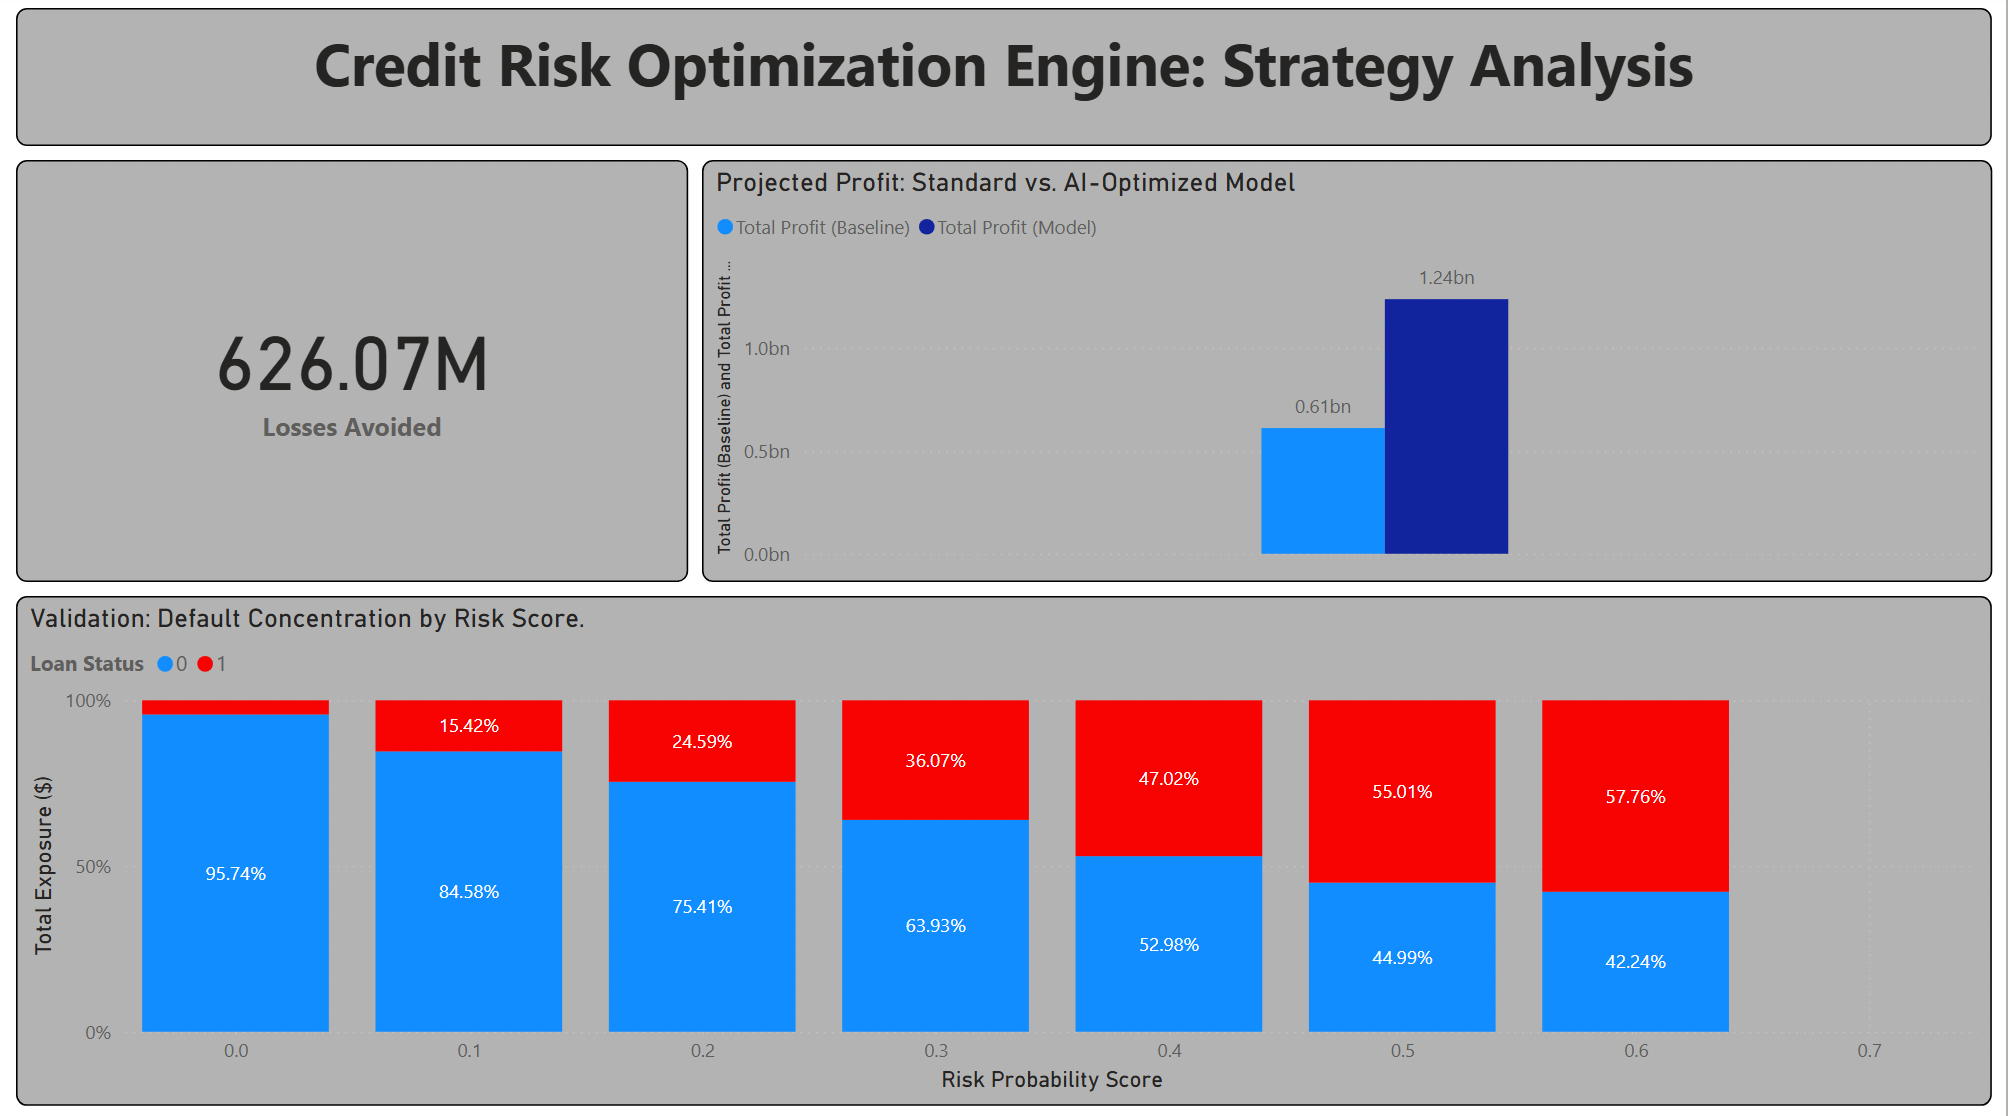

What the dashboard file says about the page in this screenshot:
{"tool":"powerbi","page":{"name":"Financial Risk Command Center","canvas":[1280,720],"ordinal":0},"visuals":[{"type":"card","fields":{"Values":["final_risk_strategy.Losses Avoided"]},"box":[11.5,107.1,428.4,269],"z":0},{"type":"clusteredColumnChart","title":"Projected Profit: Standard vs. AI-Optimized Model","fields":{"Y":["final_risk_strategy.Total Profit (Baseline)","final_risk_strategy.Total Profit (Model)"]},"box":[448.8,107.1,822.3,269],"z":1000},{"type":"hundredPercentStackedColumnChart","title":"Validation: Default Concentration by Risk Score.","fields":{"Category":["final_risk_strategy.Predicted_Prob (bins)"],"Y":["Sum(final_risk_strategy.Loan_Amount)"],"Series":["final_risk_strategy.Actual_Default"]},"box":[11.5,385,1259.6,325.1],"z":2000},{"type":"textbox","box":[11.5,10.2,1259.6,88],"z":3000}]}

Visuals, with their boxes in screenshot pixels (x1, y1, x2, y2), scaled from the page's 1280x720 canvas onto the 2008x1116 screenshot:
card - final_risk_strategy.Losses Avoided: 18:166:690:583
"Projected Profit: Standard vs. AI-Optimized Model" clusteredColumnChart: 704:166:1994:583
"Validation: Default Concentration by Risk Score." hundredPercentStackedColumnChart: 18:597:1994:1101
textbox: 18:16:1994:152
